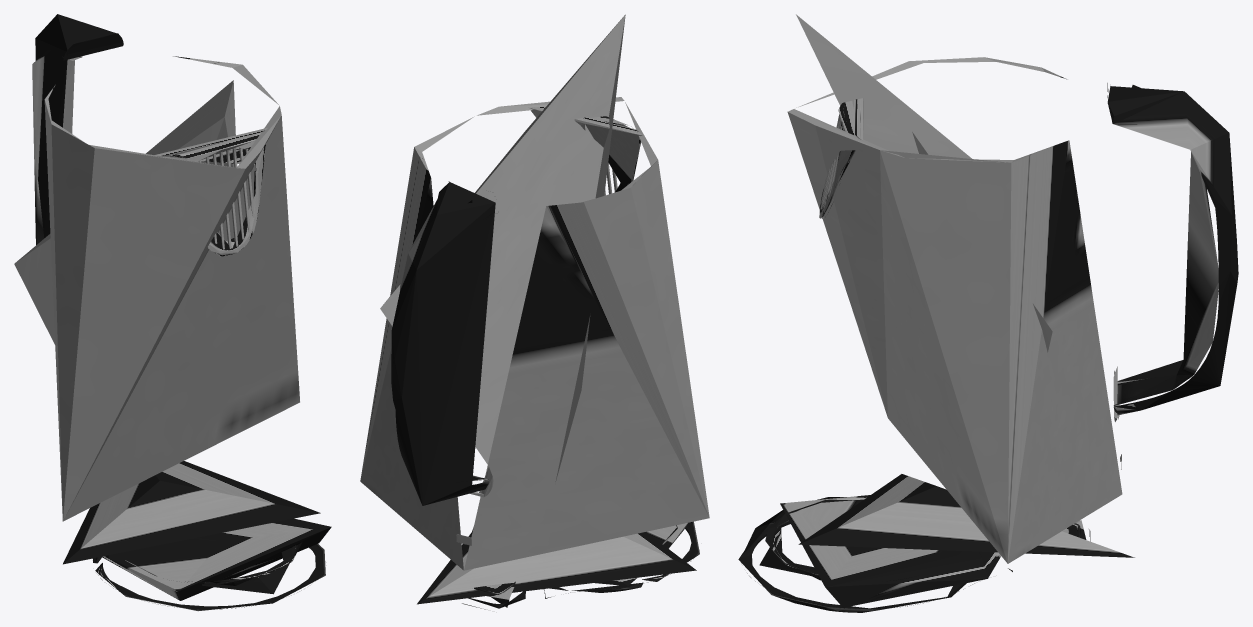
Rendered from kitchenware_kettle_a01.glb.
3 renders of one model, left to right at view 1: azimuth 30°, elevation 25°; view 2: azimuth 150°, elevation 25°; view 3: azimuth 270°, elevation 25°, orthographic. The views are drawn at different scales.
Parts seen in each view (by area): view 1: geometry_0; view 2: geometry_0; view 3: geometry_0.
Boxes of the visible parts, box(x1,y1,x2,y2) form: geometry_0: box(14, 14, 331, 611); geometry_0: box(360, 14, 709, 609); geometry_0: box(738, 14, 1238, 612).
Size of the model in its own units: 0.2532 by 0.42 by 0.3511.
Materials: 1 (1 with a texture image).
